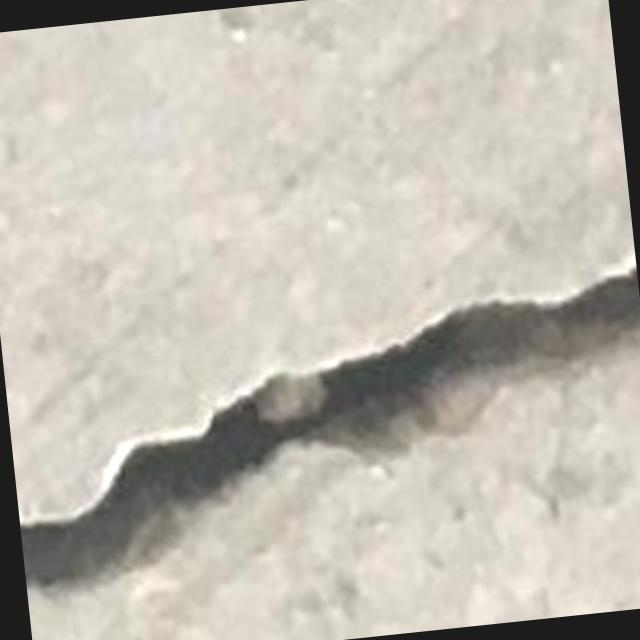crack: (20, 266, 639, 588)
